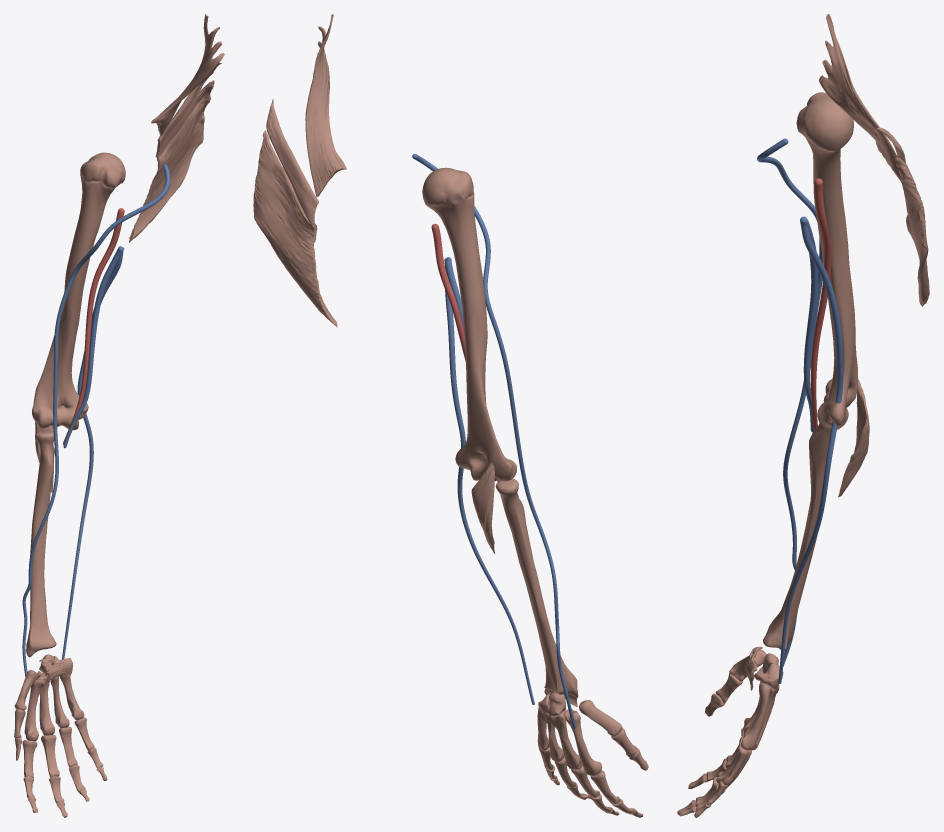
File: right-arm-0.glb
3 views of the same model, side by side, from view 1: azimuth 30°, elevation 25°; view 2: azimuth 150°, elevation 25°; view 3: azimuth 270°, elevation 25° (orthographic). The views are drawn at different scales.
Parts seen in each view (by area): view 1: FJ3368, FJ3349, FJ1536, FJ2272, FJ2270, FJ1532, FJ2271, FJ2341, FJ1537, FJ3352, FJ3354, FJ1471 (+6 smaller); view 2: FJ3368, FJ1536, FJ3349, FJ1532, FJ2272, FJ2270, FJ1537, FJ1485, FJ2271, FJ3352, FJ3354; view 3: FJ3368, FJ3349, FJ1532, FJ2270, FJ2272, FJ1536, FJ2271, FJ1485, FJ2341, FJ3358.
Boxes of the visible parts, box(x1,y1,x2,y2) form: FJ3368: box(32, 152, 125, 430); FJ3349: box(26, 430, 56, 657); FJ1536: box(129, 80, 214, 242); FJ2272: box(22, 164, 170, 676); FJ2270: box(62, 246, 123, 659); FJ1532: box(151, 14, 224, 135); FJ2271: box(63, 208, 124, 444); FJ2341: box(63, 247, 124, 448); FJ1537: box(155, 62, 221, 157); FJ3352: box(24, 674, 46, 741); FJ3354: box(37, 671, 54, 735); FJ1471: box(39, 658, 72, 681); FJ3368: box(422, 167, 516, 481); FJ1536: box(253, 130, 337, 327); FJ3349: box(495, 478, 577, 696); FJ1532: box(305, 14, 346, 197); FJ2272: box(412, 154, 576, 728); FJ2270: box(445, 257, 534, 704); FJ1537: box(266, 99, 318, 227); FJ1485: box(471, 463, 494, 553); FJ2271: box(431, 223, 499, 481); FJ3352: box(564, 709, 602, 775); FJ3354: box(551, 710, 582, 769); FJ3368: box(796, 92, 858, 429); FJ3349: box(763, 423, 830, 650); FJ1532: box(818, 14, 901, 183); FJ2270: box(778, 216, 843, 683); FJ2272: box(757, 138, 822, 666); FJ1536: box(895, 157, 929, 306); FJ2271: box(810, 178, 831, 430); FJ1485: box(838, 379, 869, 497); FJ2341: box(800, 219, 818, 432); FJ3358: box(741, 682, 771, 750).
Size of the model in its own units: 0.3248 by 0.8155 by 0.2015.
